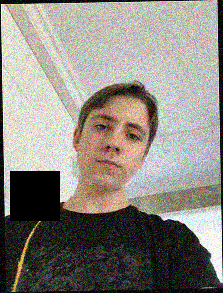without_mask: (77, 110, 150, 193)
